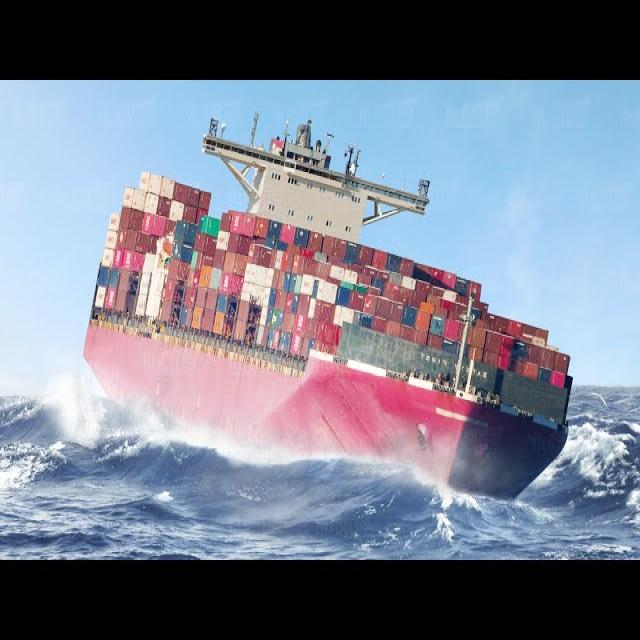boat: (74, 98, 593, 531)
